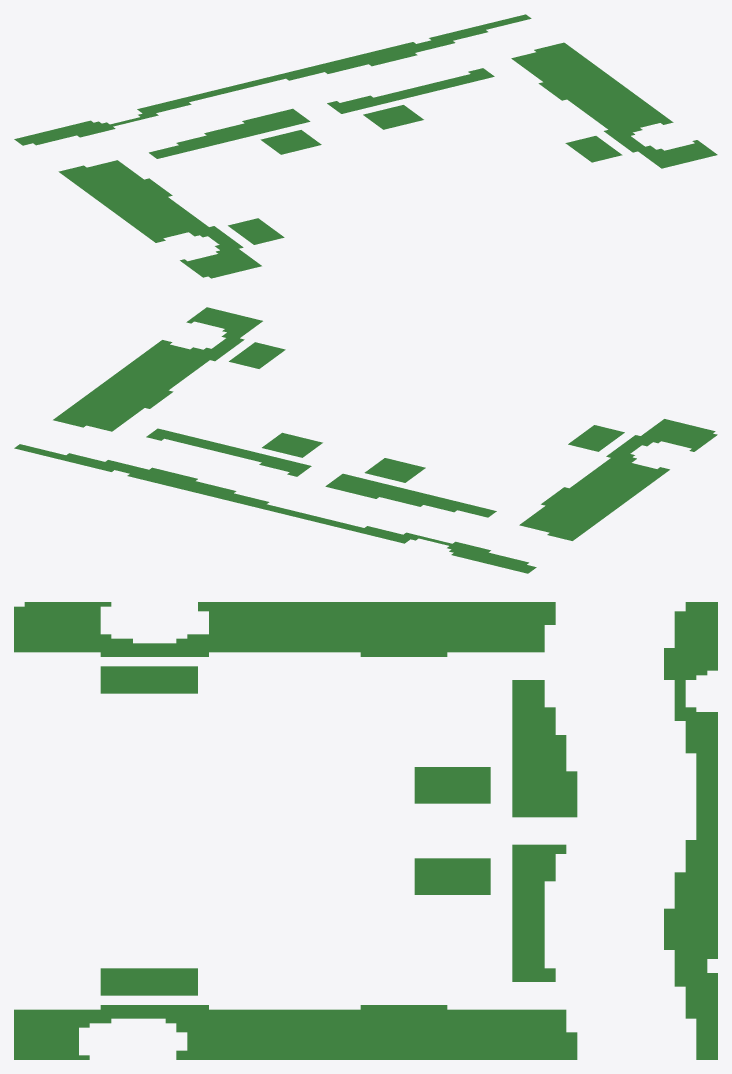
The model's file is Map-M2-TreesArea.fbx.
The picture shows the model from 3 angles, top to bottom: view 1: azimuth 30°, elevation 25°; view 2: azimuth 150°, elevation 25°; view 3: azimuth 270°, elevation 25°; orthographic projection. The views are drawn at different scales.
Visible parts, largest first — view 1: Map-M2-TreesArea; view 2: Map-M2-TreesArea; view 3: Map-M2-TreesArea.
Part boxes in pixels (left/top/right/bottom): Map-M2-TreesArea: left=14, top=14, right=717, bottom=278; Map-M2-TreesArea: left=14, top=307, right=717, bottom=573; Map-M2-TreesArea: left=14, top=602, right=717, bottom=1059.
Bounding box in the file's own units: 100 × 0 × 65.
